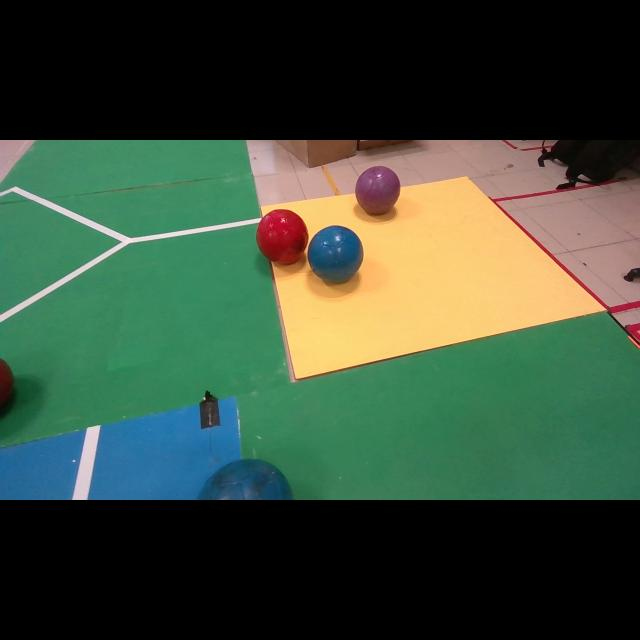B: (198, 459, 292, 500), (308, 225, 364, 283)
P: (355, 166, 400, 215)
R: (256, 210, 309, 265)
